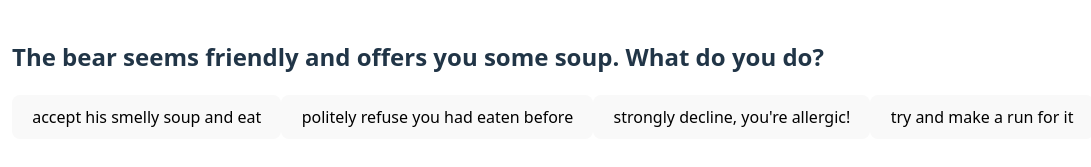
Test case: Level2 Component › accepting rotten soup loses all hearts
The width and height of the screenshot is (1091, 167).
Click the button "accept his smelly soup and eat" at (147, 117), box 12,95 -> 282,138
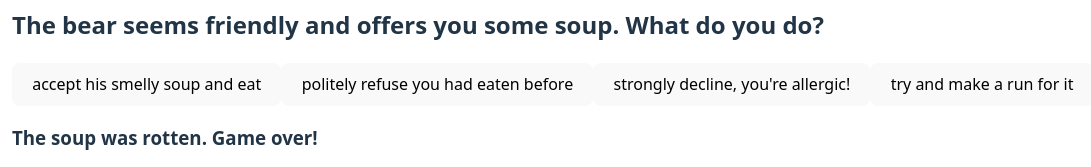
Expected: the heading "The soup was rotten. Game over!" is shown, 12,126 -> 318,150
